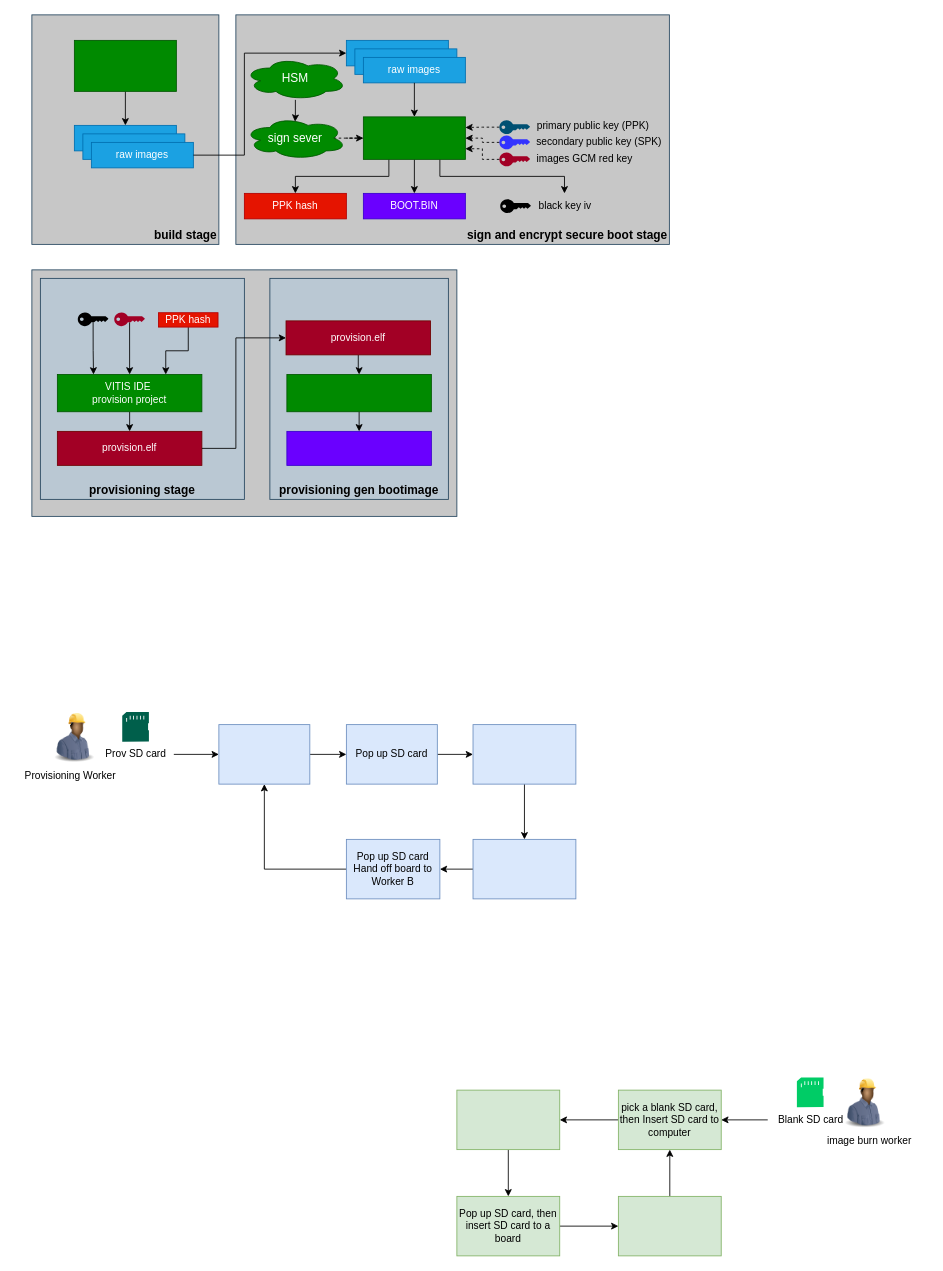
This 943x1271 diagram has some shape labels left out. The centre of each missing label's shape, as x and y in pixels:
BOOT.bin (For provisioning): point 358,448
CaSH/Toahe build system: point 125,65
finish one board: point 669,1226
gen_boot_image.sh: point 414,137
gen_provision_image.sh: point 358,393
insert Prov SD card: point 524,754
Pick a board: point 264,754
power on board: point 524,869
Run the GUI tool by one key making image SD card: point 508,1119
